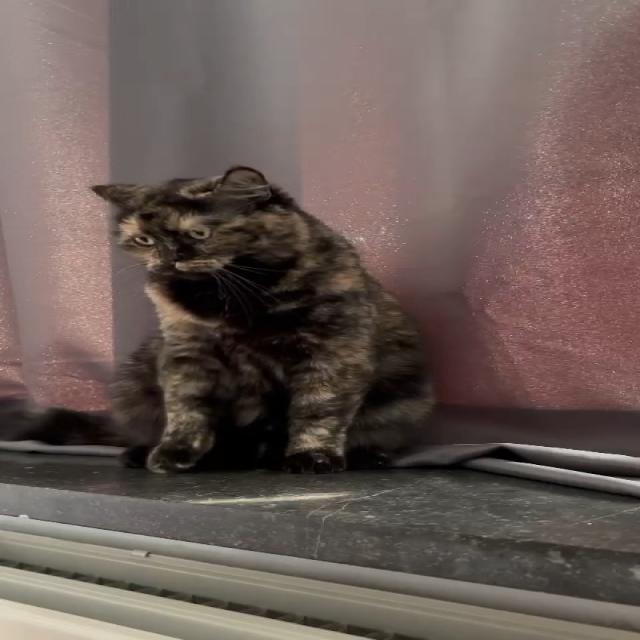authorized: (88, 163, 436, 474)
